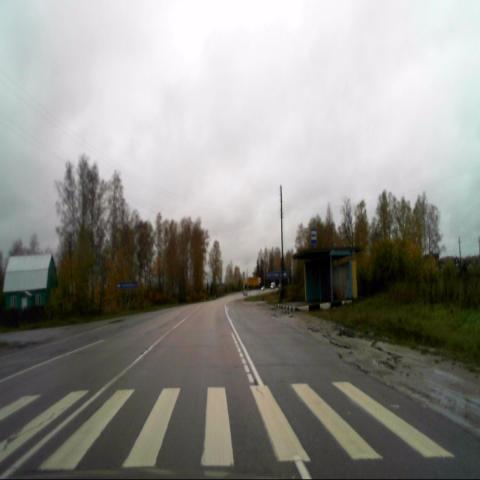5_16: (310, 229, 318, 248)
